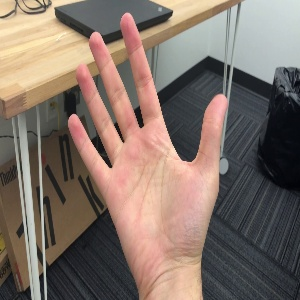hand: (68, 12, 226, 247)
